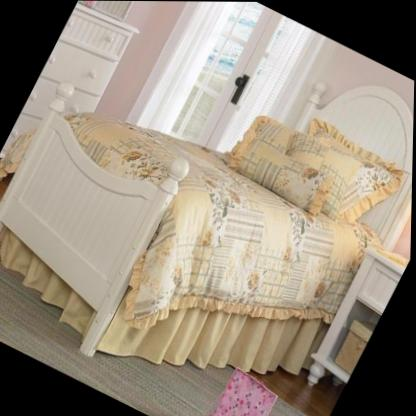Bed: (0, 86, 414, 376)
